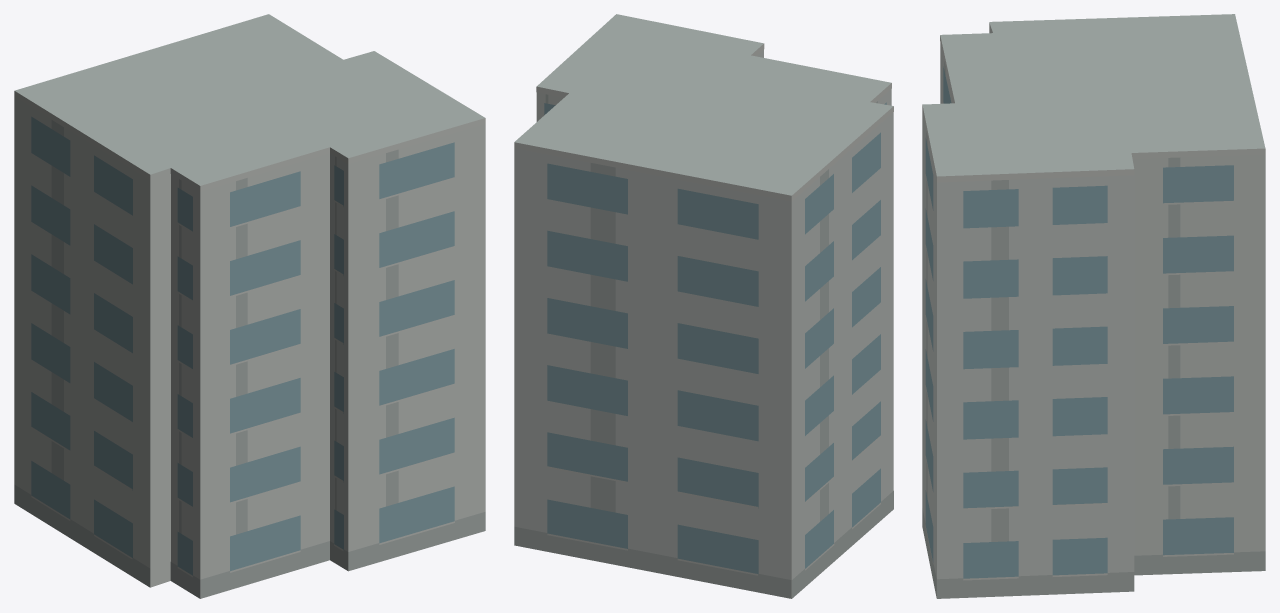
The model's file is survey-upis-32744518.glb.
The picture shows the model from 3 angles, left to right: view 1: azimuth 30°, elevation 25°; view 2: azimuth 150°, elevation 25°; view 3: azimuth 270°, elevation 25°; orthographic projection. The views are drawn at different scales.
Parts seen in each view (by area): view 1: survey-upis-32744518.tmp; view 2: survey-upis-32744518.tmp; view 3: survey-upis-32744518.tmp.
Boxes of the visible parts, x1,y1,x2,y2 form: survey-upis-32744518.tmp: (14, 14, 485, 598); survey-upis-32744518.tmp: (514, 14, 893, 598); survey-upis-32744518.tmp: (922, 14, 1265, 598).
Size of the model in its own units: 13.93 by 16.88 by 12.44.
